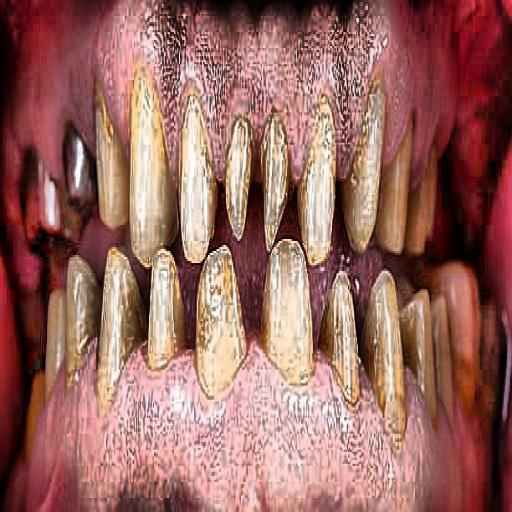Calculus: (11, 63, 480, 439)
